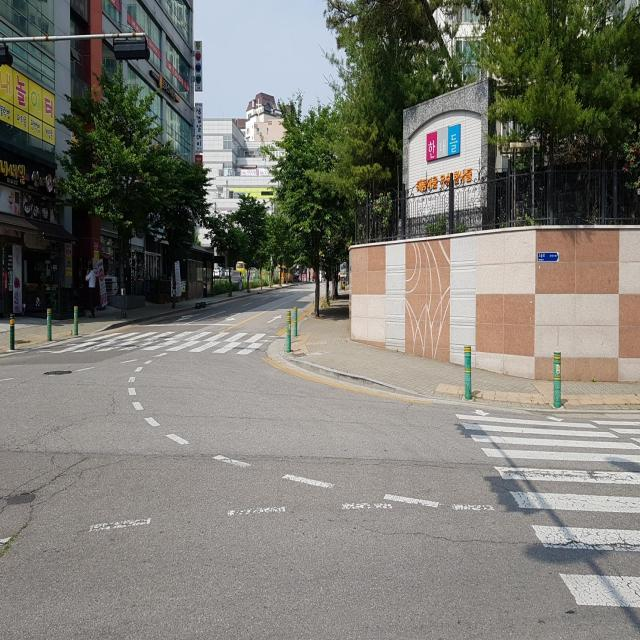횡단보도: (453, 404, 640, 611), (54, 331, 266, 355)
